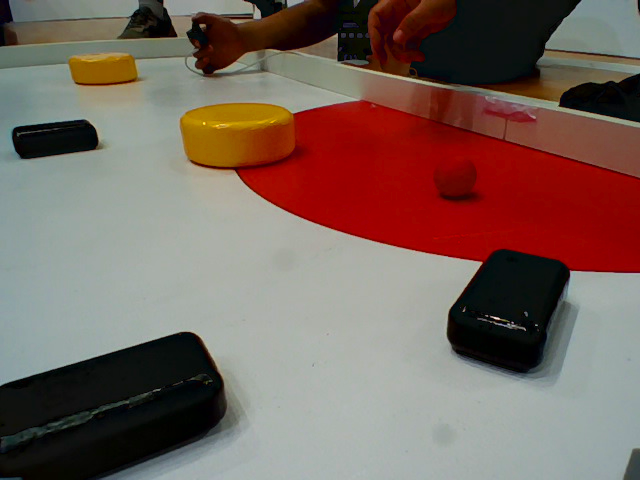black: (1, 329, 233, 473), (448, 249, 571, 379), (15, 118, 105, 166)
red: (433, 154, 478, 193)
yellow: (177, 101, 296, 168), (66, 50, 143, 90)
